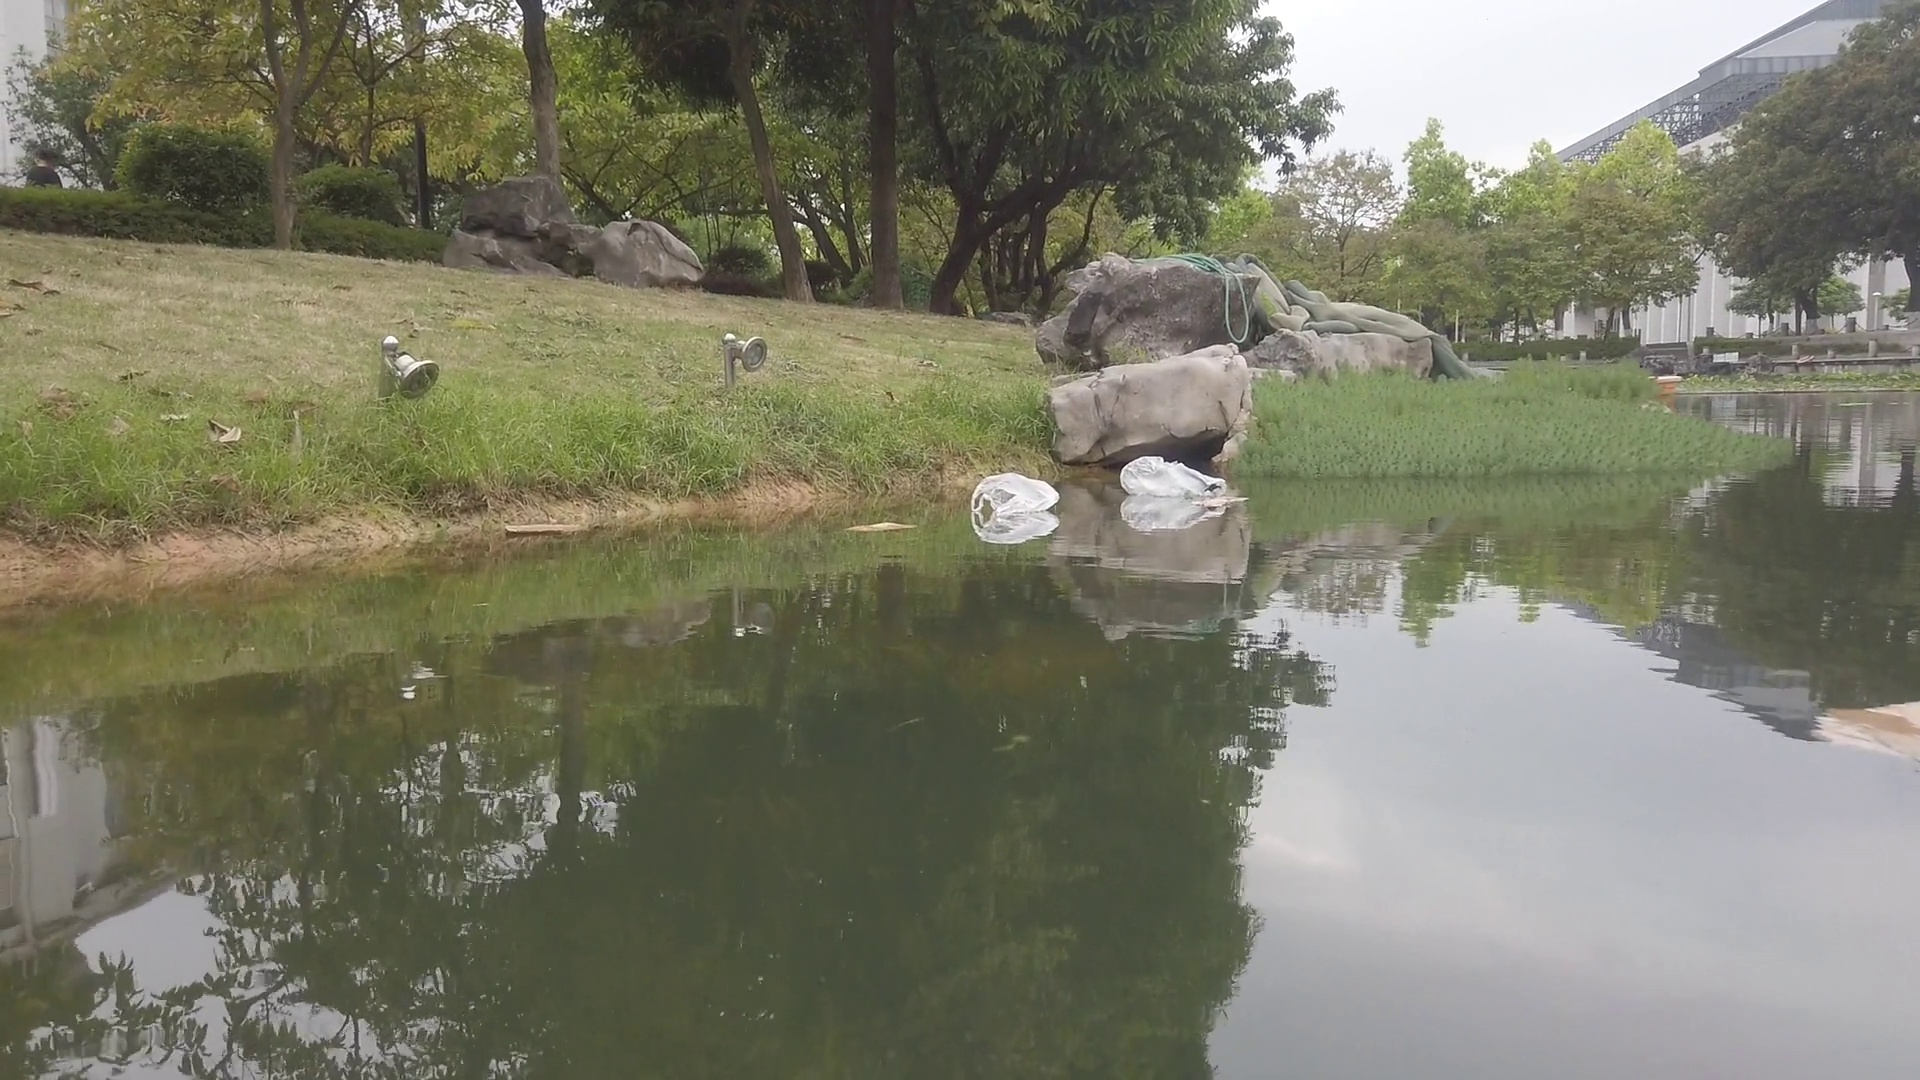paper: (1820, 700, 1920, 762), (844, 516, 920, 539), (501, 524, 599, 537), (1196, 491, 1251, 509)
plastic: (1120, 458, 1232, 497), (973, 475, 1062, 514)
